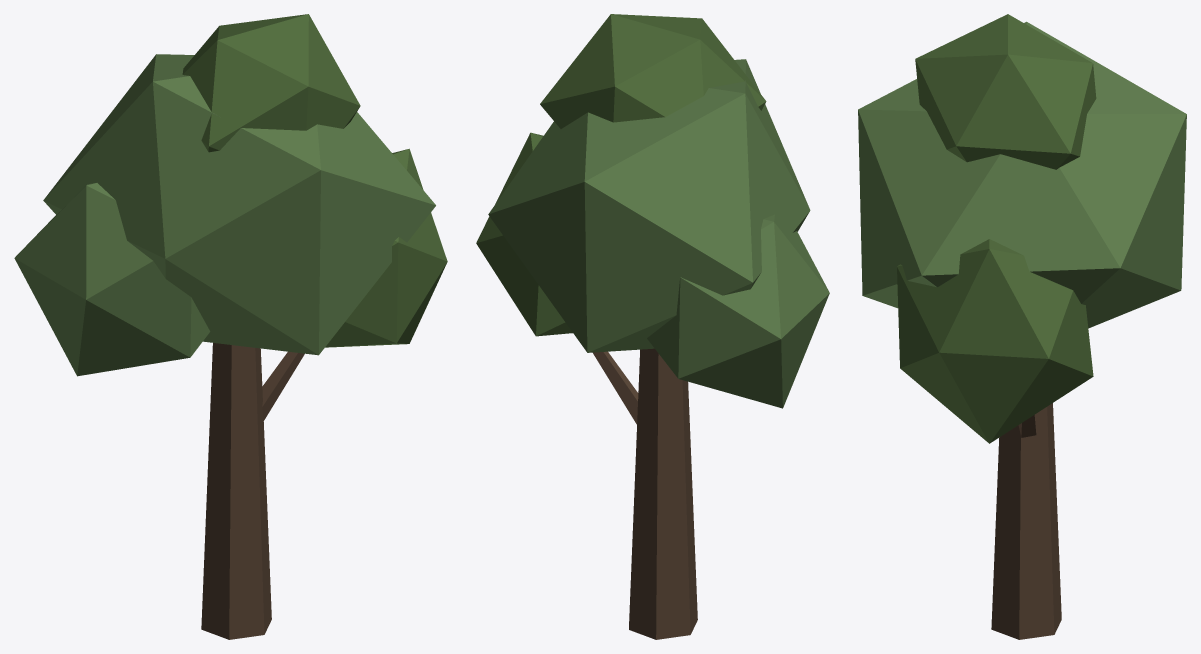
The model's file is tree_round.glb.
3 views of the same model, side by side, from view 1: azimuth 30°, elevation 25°; view 2: azimuth 150°, elevation 25°; view 3: azimuth 270°, elevation 25° (orthographic). The views are drawn at different scales.
Visible parts, largest first — view 1: tree_round; view 2: tree_round; view 3: tree_round.
Boxes of the visible parts, box(x1,y1,x2,y2) form: tree_round: box(14, 14, 447, 639); tree_round: box(476, 14, 829, 639); tree_round: box(858, 14, 1186, 639).
Size of the model in its own units: 2.18 by 3.57 by 1.77.
